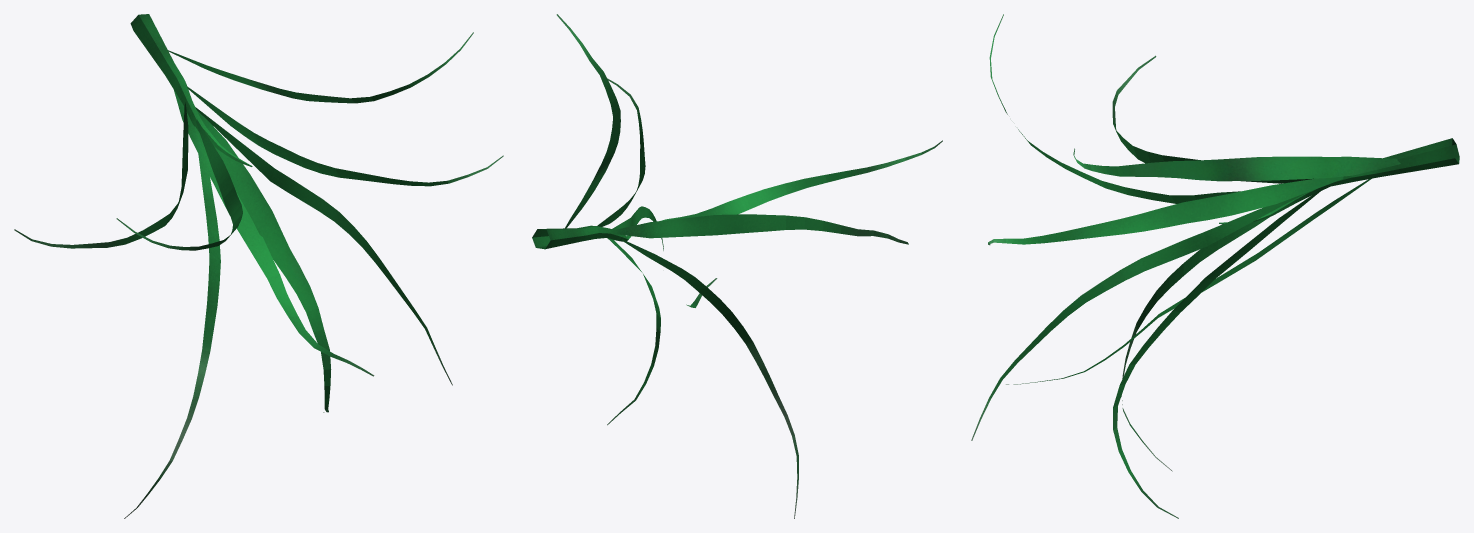
File: medium-grass-tuft.glb
The picture shows the model from 3 angles, left to right: view 1: azimuth 30°, elevation 25°; view 2: azimuth 150°, elevation 25°; view 3: azimuth 270°, elevation 25°; orthographic projection. The views are drawn at different scales.
Visible parts, largest first — view 1: Object.1; view 2: Object.1; view 3: Object.1.
Boxes of the visible parts, <box> form: Object.1: <box>14,14,503,518</box>; Object.1: <box>532,14,942,518</box>; Object.1: <box>971,14,1459,518</box>.
Bounding box in the file's own units: 490 × 494 × 450.
Materials: 1 (1 with a texture image).
